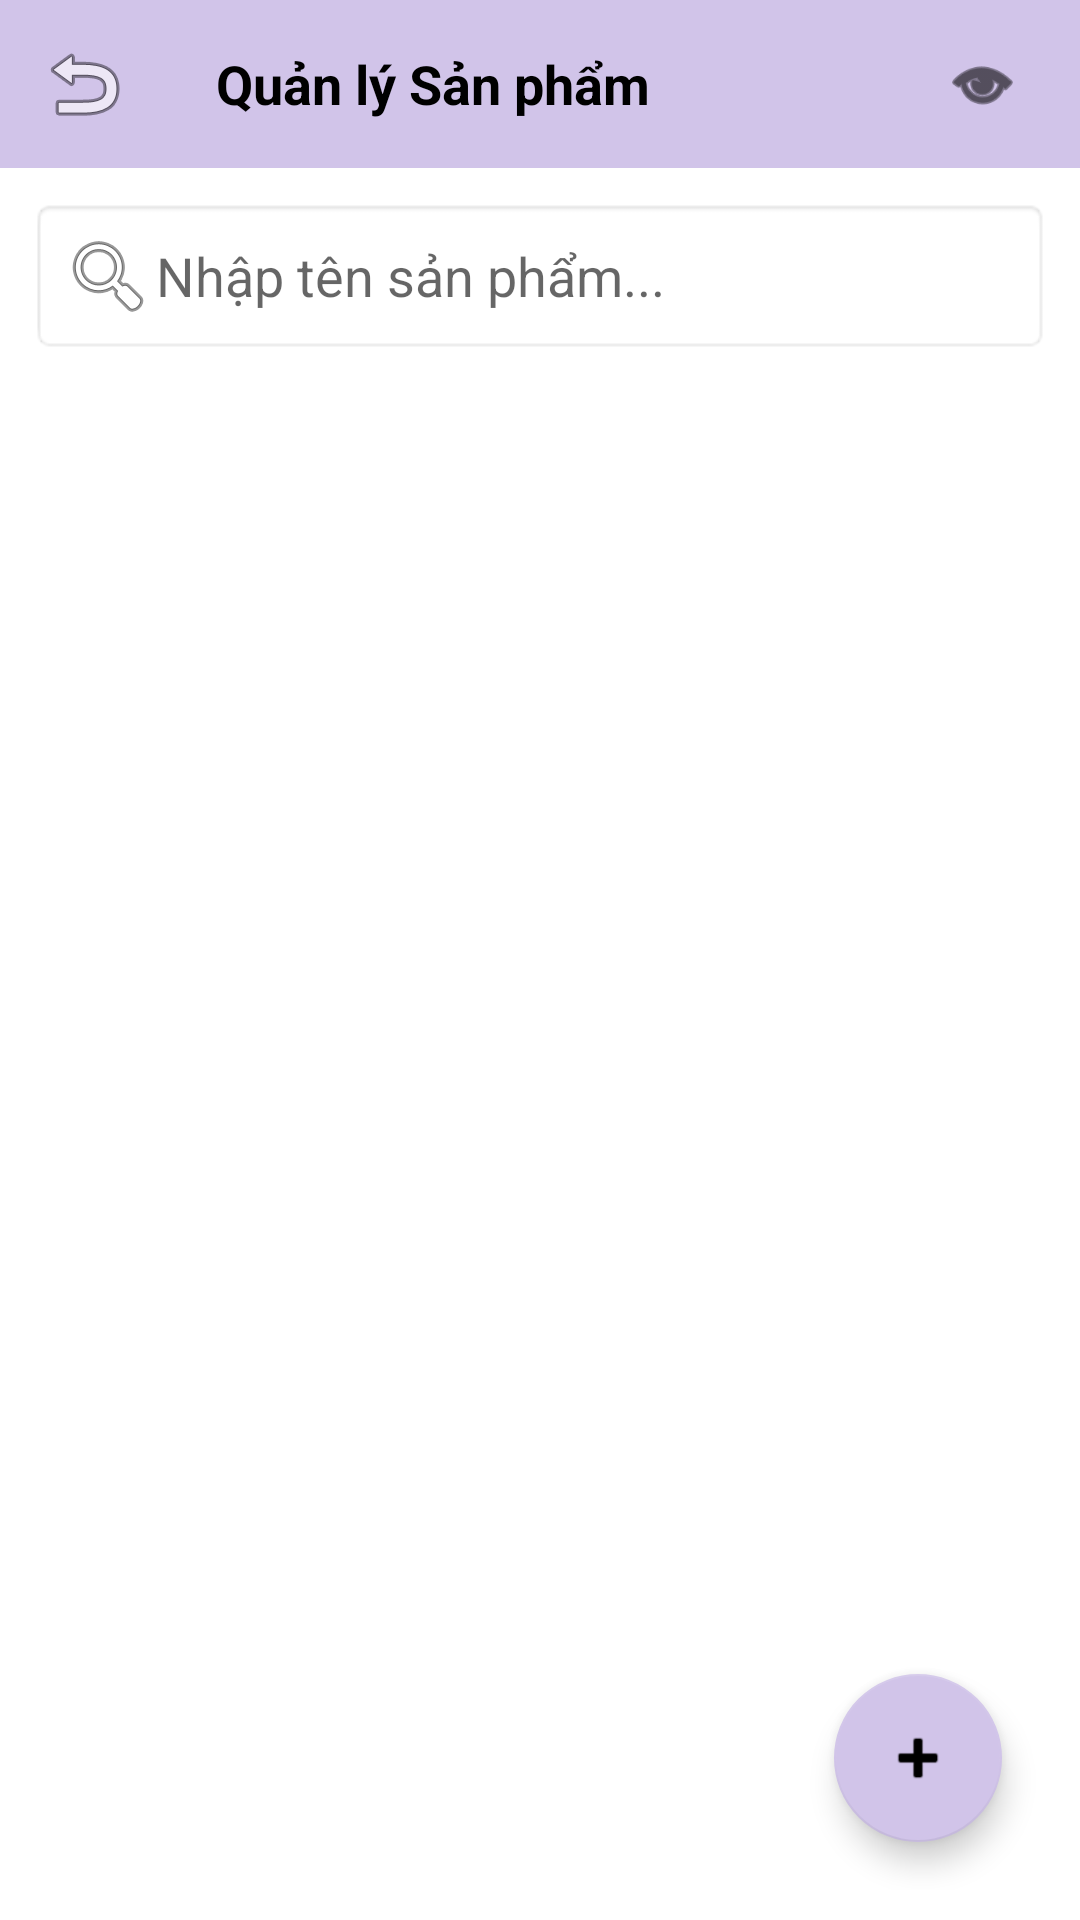

Where to tap for icons on this 1080×1920 app screen, as [x,y]:
add: [918,1758]
view: [982,85]
